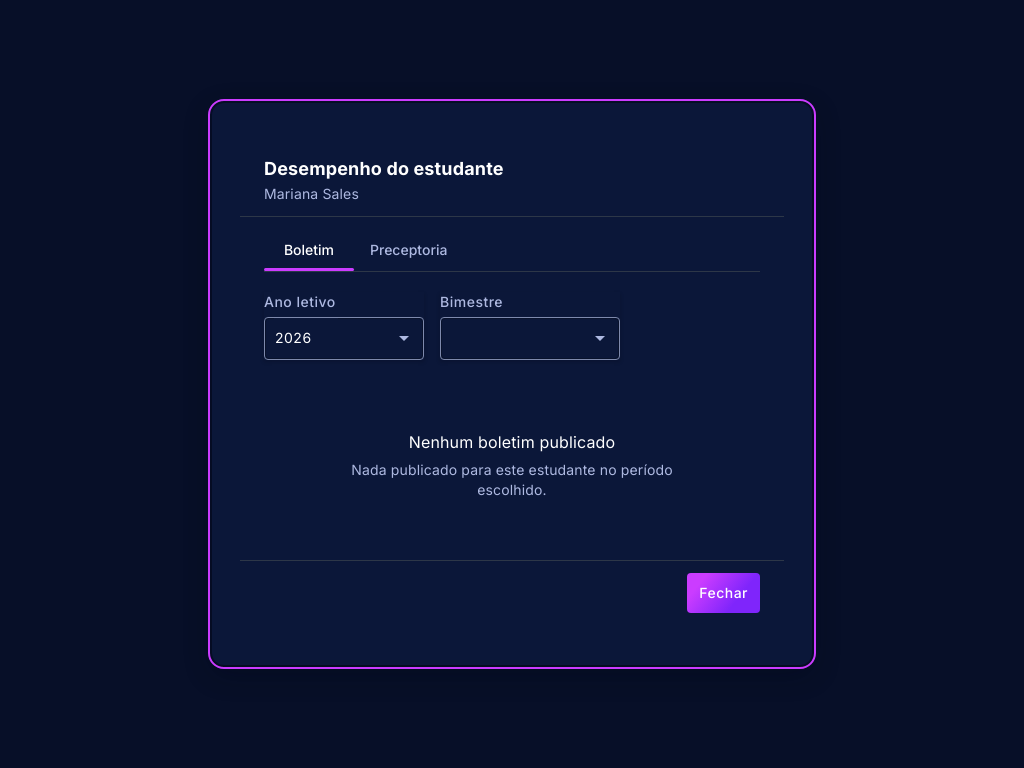
Test: StudentAcademicDialog, the preceptorship tab › shows what the teachers wrote, in their own words
Step 1. Click the tab "Preceptoria" → coordinates (409, 250), box [354,229,463,271]
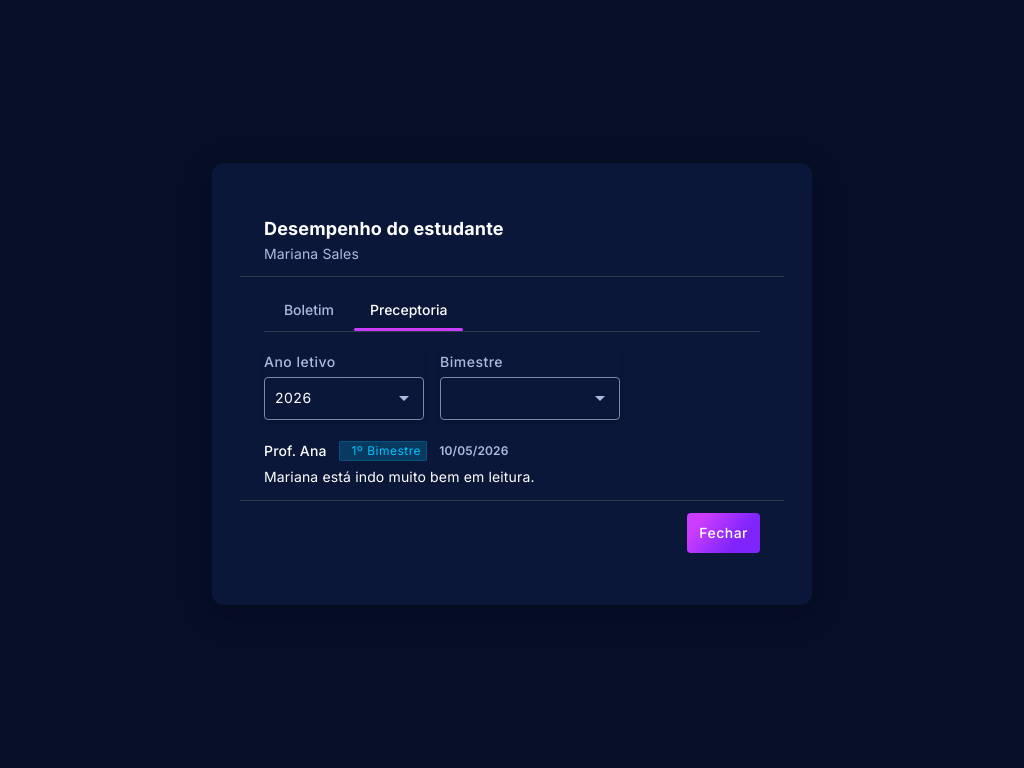
Expected: the text "Mariana está indo muito bem em leitura." is shown, [264,468,535,486]
Expected: the text "Prof. Ana" is shown, [264,440,327,462]
